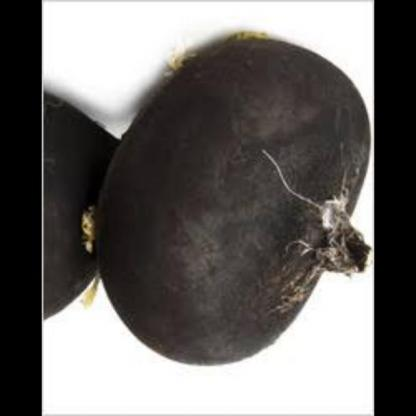redka: (98, 33, 373, 365), (43, 86, 118, 327)
